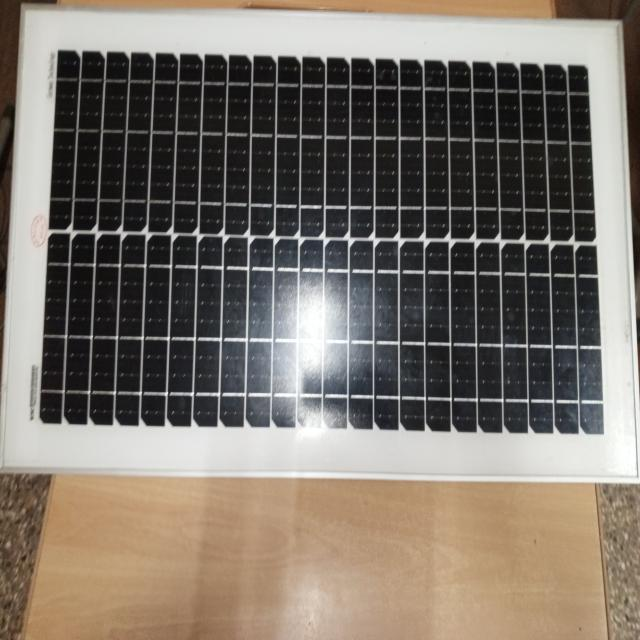Clean: (47, 28, 616, 447)
